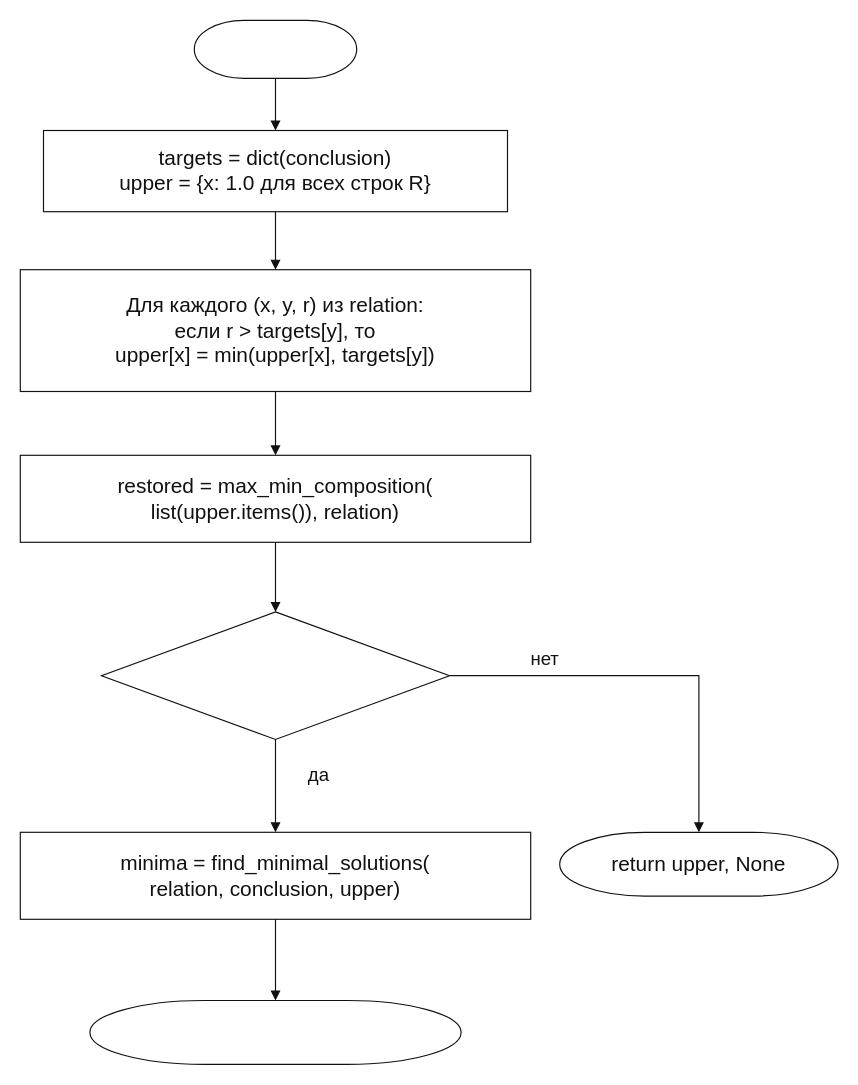
Some shapes in this 858 by 1085 pixel diagram are drawn without their labels. Here are the shapes that lost their labels. From the top down, the centre of each, then its label:
At pixel 275 48: "Начало".
At pixel 274 675: "dict(restored) == targets?".
At pixel 275 1031: "return upper, minima".
